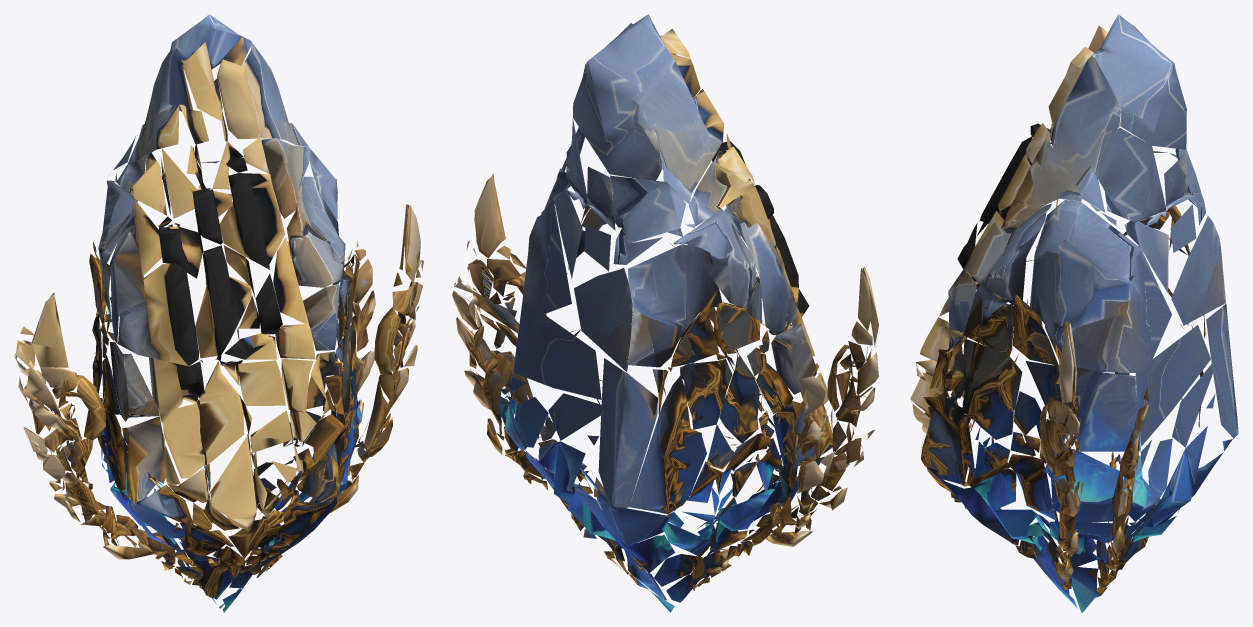
Rendered from emblema_cavaleiro.glb.
The picture shows the model from 3 angles, left to right: view 1: azimuth 30°, elevation 25°; view 2: azimuth 150°, elevation 25°; view 3: azimuth 270°, elevation 25°; orthographic projection. The views are drawn at different scales.
Visible parts, largest first — view 1: tripo_node_5de6bb49-b46f-4c40-bbd6-256900dd98f8; view 2: tripo_node_5de6bb49-b46f-4c40-bbd6-256900dd98f8; view 3: tripo_node_5de6bb49-b46f-4c40-bbd6-256900dd98f8.
Boxes of the visible parts, box(x1,y1,x2,y2) form: tripo_node_5de6bb49-b46f-4c40-bbd6-256900dd98f8: box(14, 14, 423, 612); tripo_node_5de6bb49-b46f-4c40-bbd6-256900dd98f8: box(452, 14, 878, 612); tripo_node_5de6bb49-b46f-4c40-bbd6-256900dd98f8: box(910, 14, 1238, 612).
Bounding box in the file's own units: 0.6952 × 0.9816 × 0.4862.
1 material, 1 textured.
